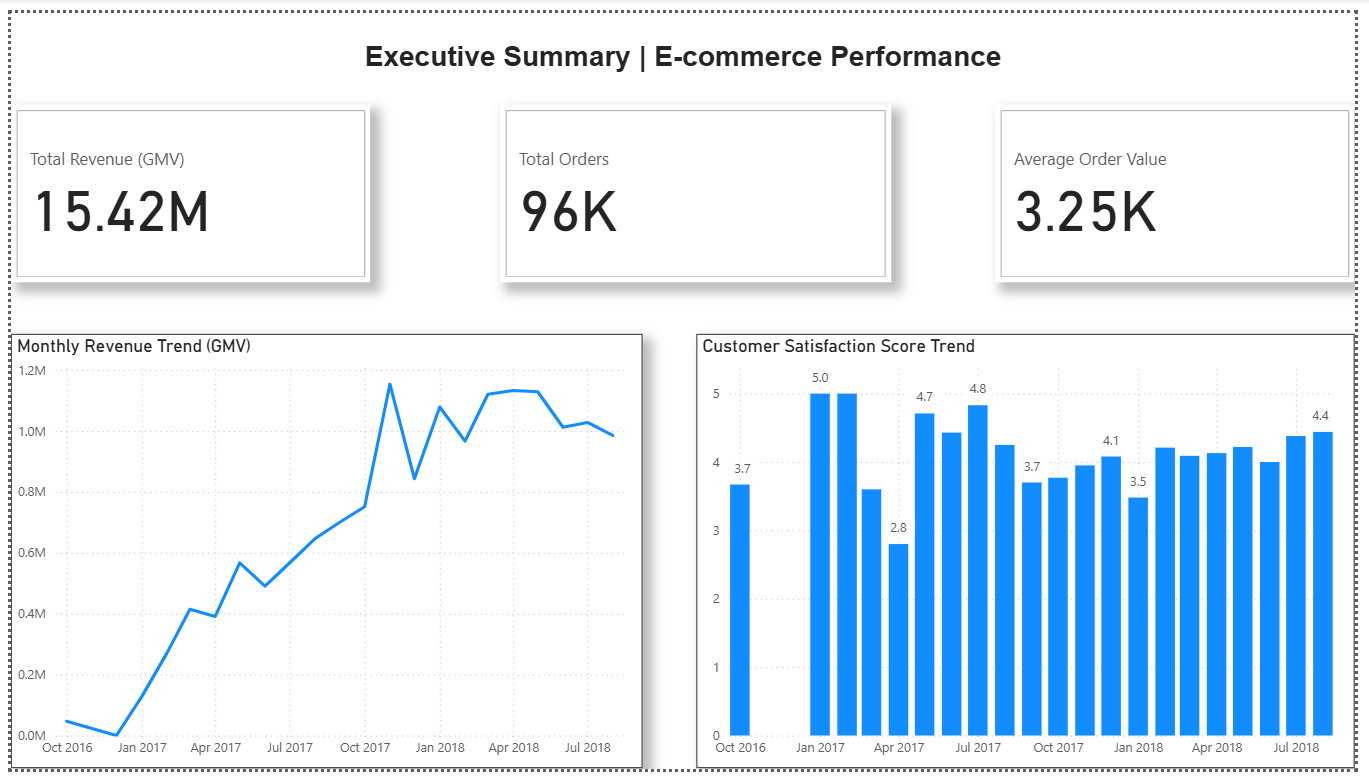

Layout of this report page (visuals, bound fields, positions):
{"tool":"powerbi","page":{"name":"Executive Summary","canvas":[1280,720],"ordinal":0},"visuals":[{"type":"cardVisual","fields":{"Data":["Sum(17_vw_executive_kpi_summary.total_gmv)"]},"box":[0,87.8,342.2,169.6],"z":0},{"type":"lineChart","title":"Monthly Revenue Trend (GMV)","fields":{"Y":["Sum(17_vw_executive_kpi_summary.total_gmv)"],"Category":["17_vw_executive_kpi_summary.year_month"]},"box":[0,305.9,601.1,413.4],"z":1000},{"type":"cardVisual","fields":{"Data":["Sum(17_vw_executive_kpi_summary.total_orders)"]},"box":[466.4,87.8,372.5,169.6],"z":2000},{"type":"cardVisual","fields":{"Data":["Sum(17_vw_executive_kpi_summary.avg_order_value)"]},"box":[937.3,87.8,342.2,169.6],"z":3000},{"type":"lineStackedColumnComboChart","title":"Customer Satisfaction Score Trend","fields":{"Y":["Sum(17_vw_executive_kpi_summary.avg_customer_satisfaction)"],"Category":["17_vw_executive_kpi_summary.year_month"]},"box":[652.6,305.9,626.9,413.4],"z":4000},{"type":"textbox","box":[234.7,21.2,811.6,56],"z":5000}]}

Visuals, with their boxes in screenshot pixels (x1, y1, x2, y2), scaled from the page's 1280x720 canvas onto the 1369x782 screenshot:
cardVisual - Sum(17_vw_executive_kpi_summary.total_gmv): <bbox>0, 95, 366, 280</bbox>
"Monthly Revenue Trend (GMV)" lineChart: <bbox>0, 332, 643, 781</bbox>
cardVisual - Sum(17_vw_executive_kpi_summary.total_orders): <bbox>499, 95, 897, 280</bbox>
cardVisual - Sum(17_vw_executive_kpi_summary.avg_order_value): <bbox>1002, 95, 1368, 280</bbox>
"Customer Satisfaction Score Trend" lineStackedColumnComboChart: <bbox>698, 332, 1368, 781</bbox>
textbox: <bbox>251, 23, 1119, 84</bbox>
